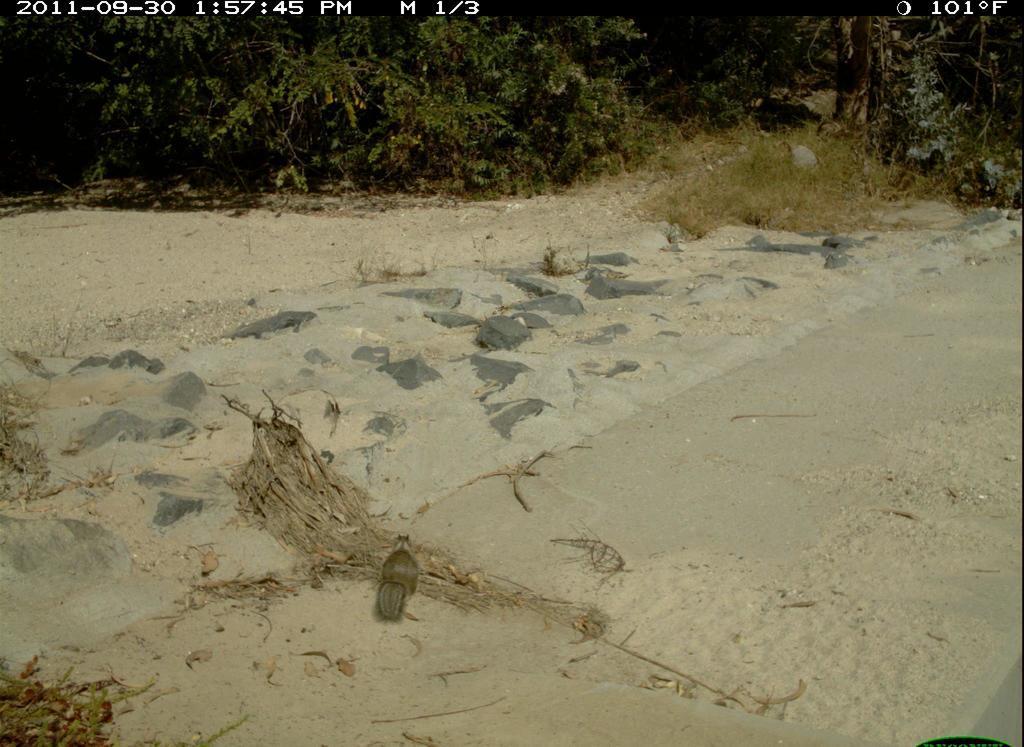squirrel: (367, 525, 424, 630)
